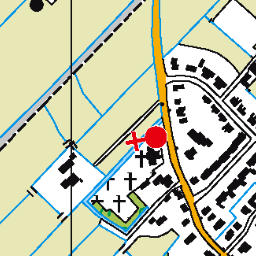church: (121, 122, 170, 154)
